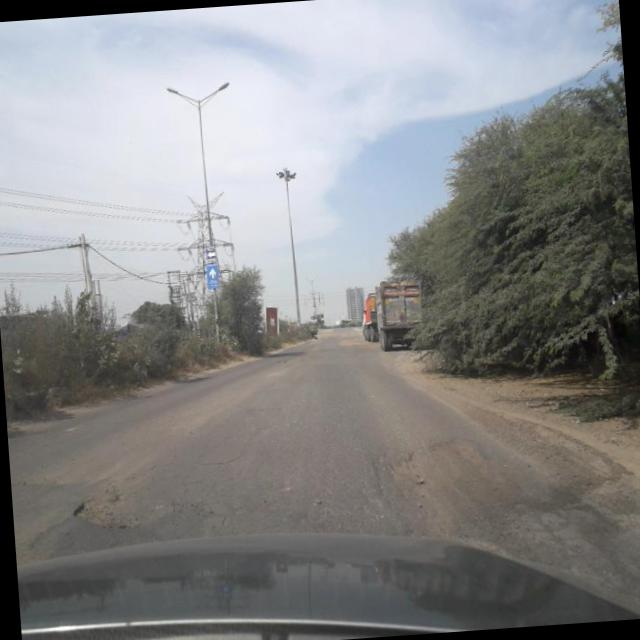crack: (490, 456, 640, 604)
pothole: (356, 423, 538, 534), (64, 475, 212, 539)
